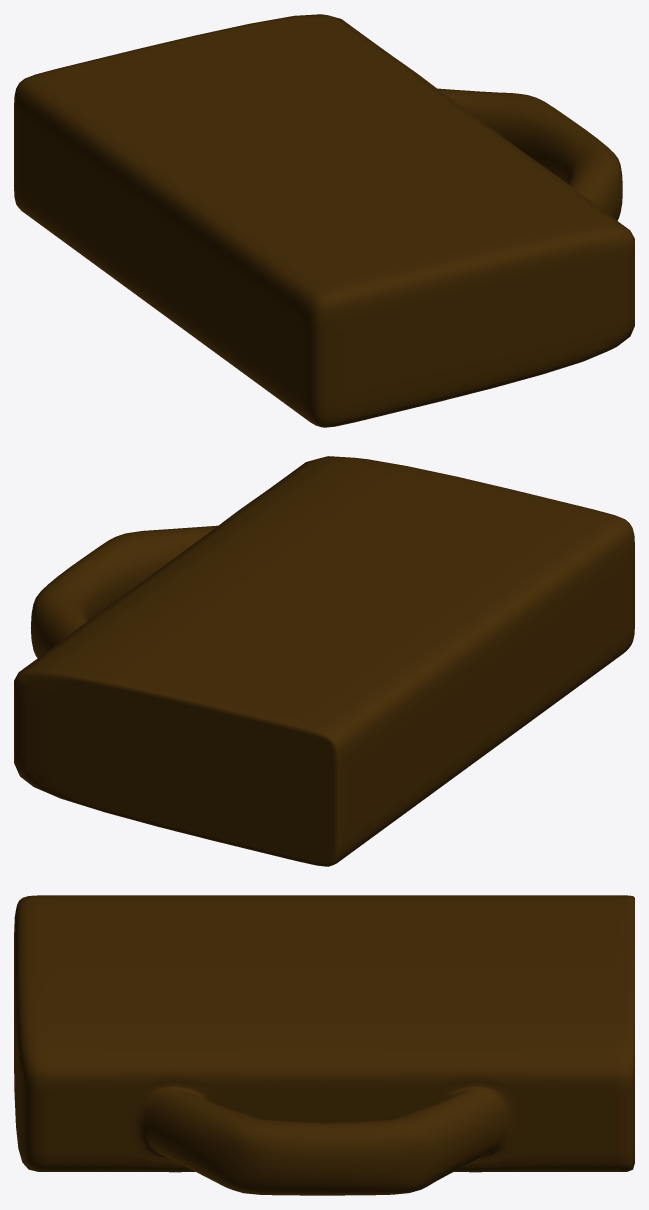
The model's file is maletin2.fbx.
3 renders of one model, top to bottom at view 1: azimuth 30°, elevation 25°; view 2: azimuth 150°, elevation 25°; view 3: azimuth 270°, elevation 25°, orthographic. The views are drawn at different scales.
Parts seen in each view (by area): view 1: Cube; view 2: Cube; view 3: Cube.
Part boxes in pixels (x1=…): Cube: x1=14, y1=14, x2=634, y2=427; Cube: x1=14, y1=456, x2=634, y2=866; Cube: x1=14, y1=895, x2=634, y2=1195.
Bounding box in the file's own units: 259 × 79.22 × 320.
